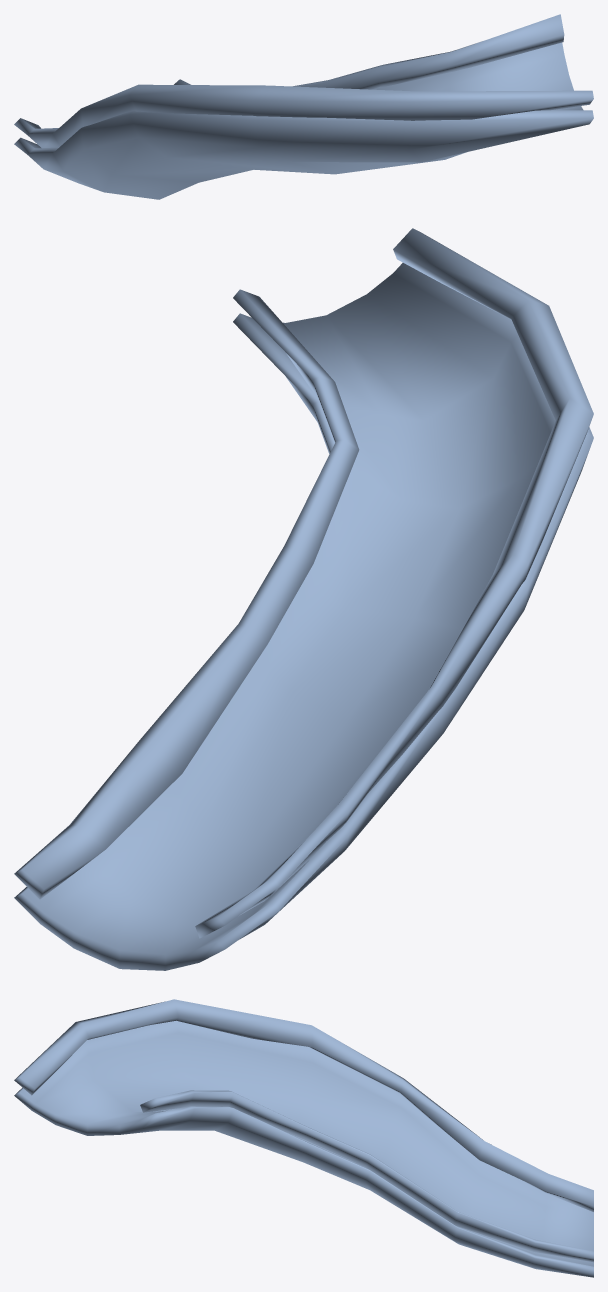
File: junRoadShortSlope5_70.fbx
The picture shows the model from 3 angles, top to bottom: view 1: azimuth 30°, elevation 25°; view 2: azimuth 150°, elevation 25°; view 3: azimuth 270°, elevation 25°; orthographic projection. The views are drawn at different scales.
Visible parts, largest first — view 1: roadShortSlope5_70_LOD0, roadShortSlope5_70_edge_LOD0; view 2: roadShortSlope5_70_LOD0, roadShortSlope5_70_edge_LOD0; view 3: roadShortSlope5_70_LOD0, roadShortSlope5_70_edge_LOD0.
Boxes of the visible parts, x1,y1,x2,y2 form: roadShortSlope5_70_LOD0: (14,42,593,199); roadShortSlope5_70_edge_LOD0: (14,14,593,147); roadShortSlope5_70_LOD0: (14,263,593,970); roadShortSlope5_70_edge_LOD0: (14,228,593,938); roadShortSlope5_70_LOD0: (14,1020,593,1277); roadShortSlope5_70_edge_LOD0: (14,999,593,1262).
Bounding box in the file's own units: 1256 × 1106 × 2394.
